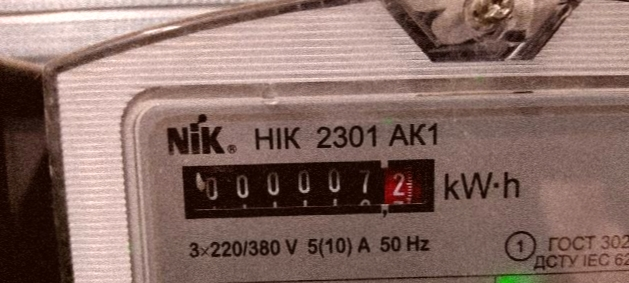0: (263, 169, 282, 196), (233, 171, 251, 199), (202, 173, 220, 200), (325, 165, 341, 193), (295, 166, 310, 194)
2: (390, 169, 407, 198)
7: (355, 166, 372, 195)
screen: (173, 149, 447, 224)
